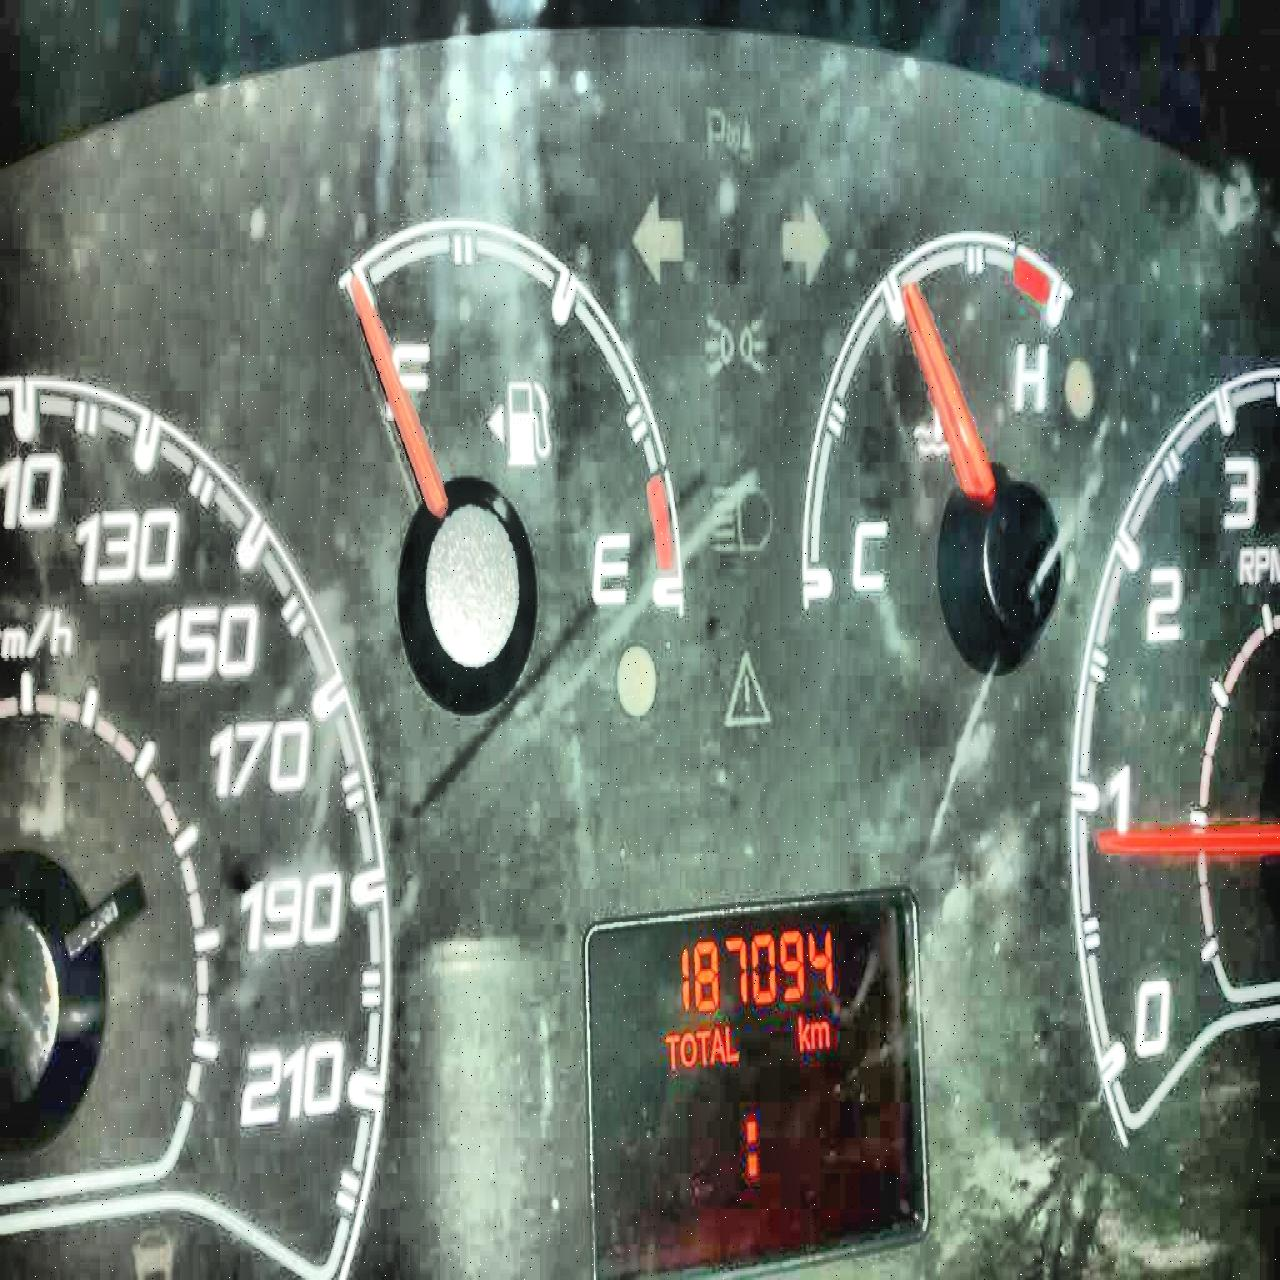0: (749, 928, 776, 1002)
1: (678, 940, 690, 1012)
4: (806, 927, 833, 993)
7: (722, 931, 748, 1005)
8: (692, 935, 719, 1014)
9: (777, 927, 805, 1000)
X: (743, 1116, 757, 1176), (662, 1032, 680, 1069), (810, 1017, 829, 1049), (710, 1024, 726, 1062), (681, 1029, 695, 1067), (696, 1027, 710, 1064), (723, 1024, 737, 1062), (797, 1013, 809, 1051)
odometer: (580, 880, 931, 1275)
